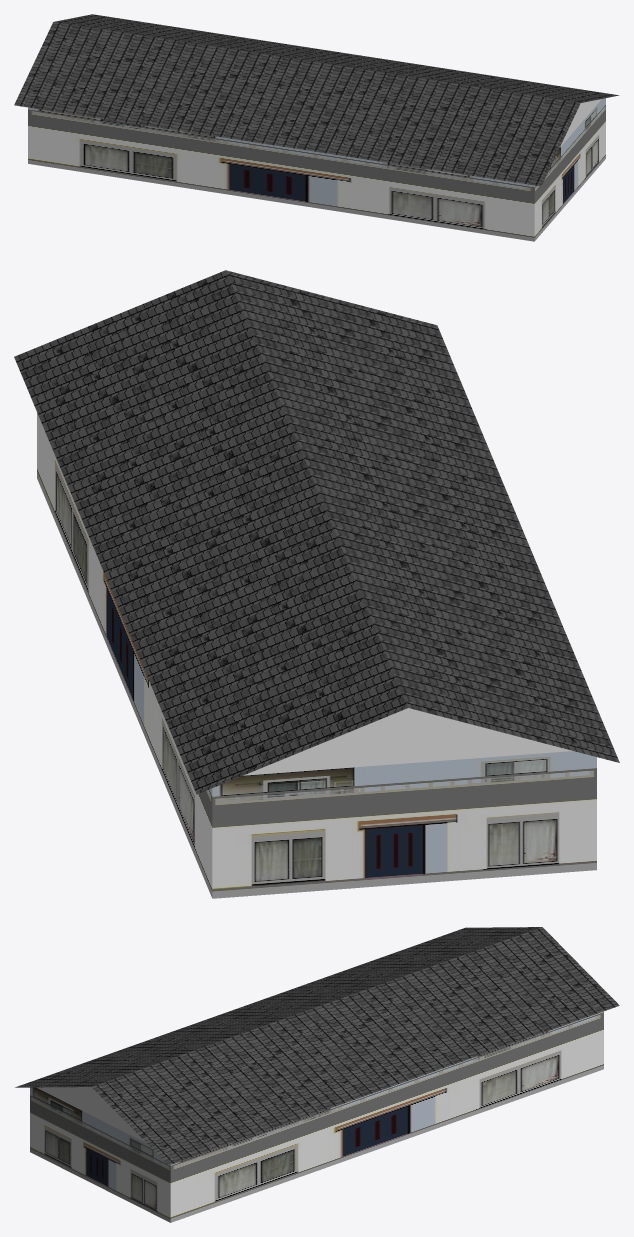
The picture shows the model from 3 angles, top to bottom: view 1: azimuth 30°, elevation 25°; view 2: azimuth 150°, elevation 25°; view 3: azimuth 270°, elevation 25°; orthographic projection. The views are drawn at different scales.
Parts seen in each view (by area): view 1: CityEngineMaterial_8_m, CityEngineMaterial_7_m, CityEngineMaterial_3_m; view 2: CityEngineMaterial_8_m, CityEngineMaterial_7_m, CityEngineMaterial_3_m; view 3: CityEngineMaterial_8_m, CityEngineMaterial_7_m, CityEngineMaterial_3_m.
Part boxes in pixels (bbox=[...]): CityEngineMaterial_8_m: bbox=[14, 14, 619, 186]; CityEngineMaterial_7_m: bbox=[28, 98, 605, 241]; CityEngineMaterial_3_m: bbox=[560, 99, 601, 147]; CityEngineMaterial_8_m: bbox=[14, 270, 619, 794]; CityEngineMaterial_7_m: bbox=[37, 412, 596, 898]; CityEngineMaterial_3_m: bbox=[243, 708, 572, 775]; CityEngineMaterial_8_m: bbox=[15, 927, 619, 1165]; CityEngineMaterial_7_m: bbox=[30, 1011, 603, 1222]; CityEngineMaterial_3_m: bbox=[37, 1087, 145, 1142].
Size of the model in its own units: 47.93 by 9.74 by 51.59.
